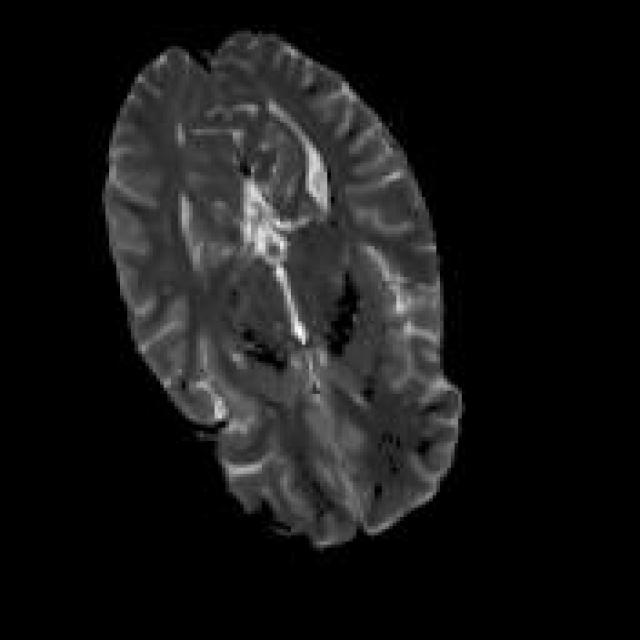parkinson: (98, 28, 466, 550)
